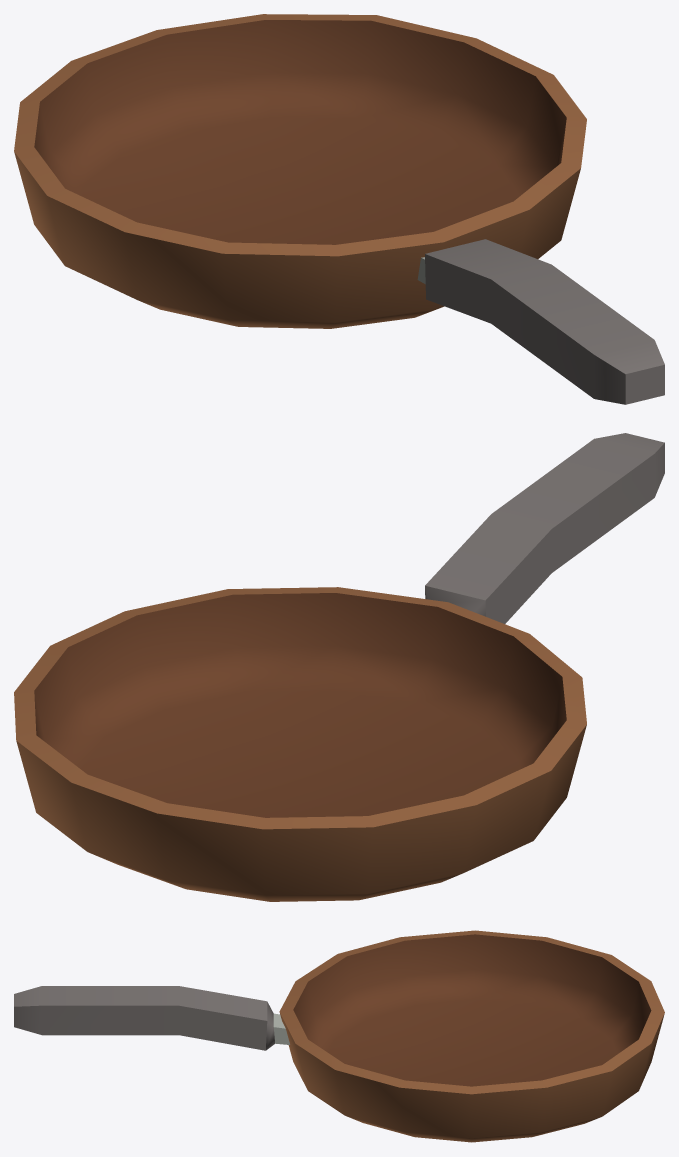
File: SM_Prop_Pan_03.obj
3 views of the same model, one above another, from view 1: azimuth 30°, elevation 25°; view 2: azimuth 150°, elevation 25°; view 3: azimuth 270°, elevation 25° (orthographic). The views are drawn at different scales.
Parts seen in each view (by area): view 1: SM_Prop_Pan_03_Mat_SwatchOverlay_Farm_Main_01_Inst; view 2: SM_Prop_Pan_03_Mat_SwatchOverlay_Farm_Main_01_Inst; view 3: SM_Prop_Pan_03_Mat_SwatchOverlay_Farm_Main_01_Inst.
Part boxes in pixels (bbox=[...]): SM_Prop_Pan_03_Mat_SwatchOverlay_Farm_Main_01_Inst: bbox=[14, 14, 664, 404]; SM_Prop_Pan_03_Mat_SwatchOverlay_Farm_Main_01_Inst: bbox=[14, 433, 664, 901]; SM_Prop_Pan_03_Mat_SwatchOverlay_Farm_Main_01_Inst: bbox=[14, 930, 664, 1142].
Size of the model in its own units: 0.3621 by 0.0838 by 0.6079.
Materials: 1 (1 with a texture image).
